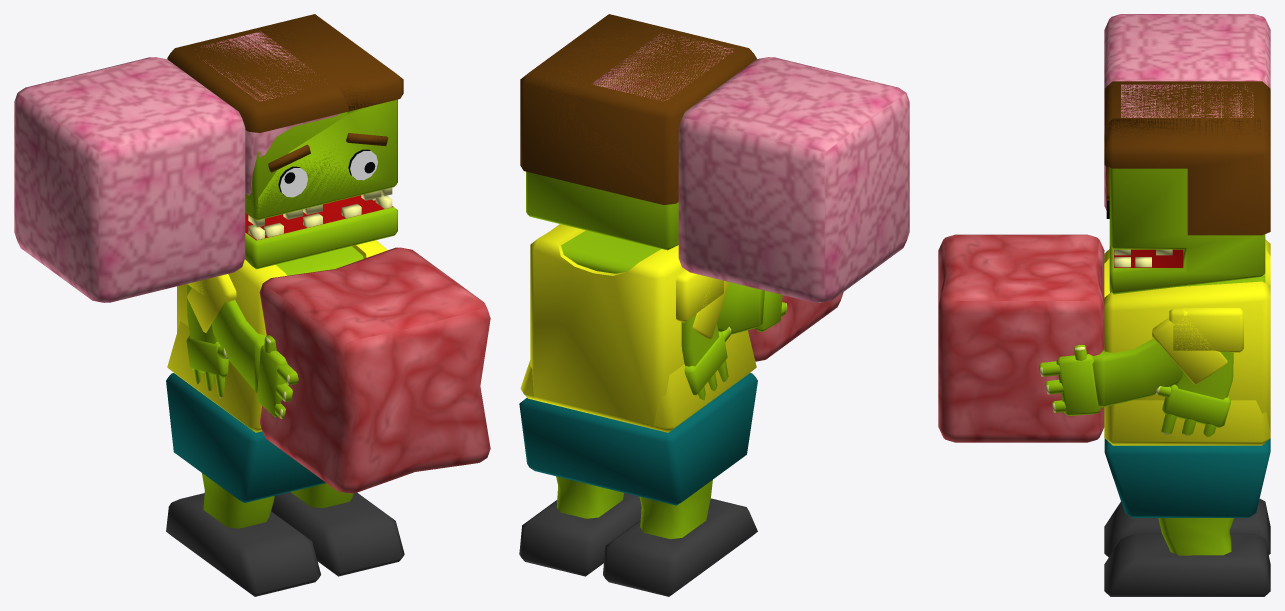
The model's file is S_Zombie_1-2-3-4.fbx.
The picture shows the model from 3 angles, left to right: view 1: azimuth 30°, elevation 25°; view 2: azimuth 150°, elevation 25°; view 3: azimuth 270°, elevation 25°; orthographic projection. The views are drawn at different scales.
Visible parts, largest first — view 1: Z_02_Brains2, Z_03_Guts3, Z_01_Head1, Z_01_Legs1, Z_02_Head2, Z_03_Body3, Z_01_Body1; view 2: Z_02_Brains2, Z_01_Legs1, Z_01_Head1, Z_01_Body1, Z_02_Head2, Z_03_Body3, Z_03_Guts3; view 3: Z_03_Guts3, Z_01_Head1, Z_01_Legs1, Z_01_Body1, Z_02_Brains2, Z_03_Body3, Z_02_Head2.
Part boxes in pixels (x1,y1,x2,y2): Z_02_Brains2: [14, 57, 245, 302]; Z_03_Guts3: [254, 247, 490, 493]; Z_01_Head1: [167, 14, 403, 269]; Z_01_Legs1: [166, 373, 404, 596]; Z_02_Head2: [195, 14, 400, 217]; Z_03_Body3: [167, 274, 266, 432]; Z_01_Body1: [177, 240, 387, 397]; Z_02_Brains2: [678, 57, 909, 302]; Z_01_Legs1: [519, 373, 757, 596]; Z_01_Head1: [520, 14, 756, 250]; Z_01_Body1: [530, 224, 731, 428]; Z_02_Head2: [523, 15, 733, 247]; Z_03_Body3: [520, 281, 759, 432]; Z_03_Guts3: [748, 289, 843, 361]; Z_03_Guts3: [938, 234, 1104, 442]; Z_01_Head1: [1104, 81, 1270, 294]; Z_01_Legs1: [1104, 438, 1270, 596]; Z_01_Body1: [1104, 239, 1270, 437]; Z_02_Brains2: [1104, 14, 1270, 210]; Z_03_Body3: [1104, 307, 1270, 445]; Z_02_Head2: [1104, 84, 1270, 160].
Size of the model in its own units: 200 by 300 by 200.
3 materials, 3 textured.
